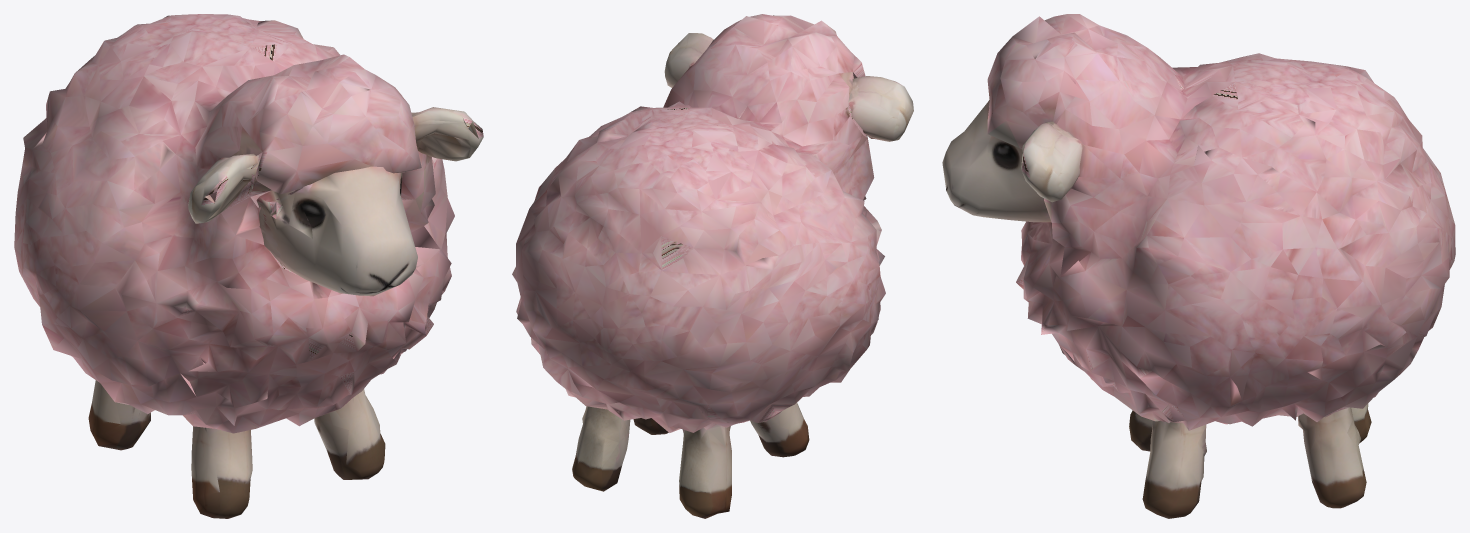
File: _pink_sheep.glb
The picture shows the model from 3 angles, left to right: view 1: azimuth 30°, elevation 25°; view 2: azimuth 150°, elevation 25°; view 3: azimuth 270°, elevation 25°; orthographic projection. The views are drawn at different scales.
Parts seen in each view (by area): view 1: sheep; view 2: sheep; view 3: sheep.
Part boxes in pixels (box(x1,y1,x2,y2)): sheep: box(14, 14, 483, 518); sheep: box(512, 14, 913, 518); sheep: box(942, 14, 1455, 518).
Size of what is drawn, in the model's own units: 0.9498 by 1.09 by 1.14.
1 material, 1 textured.
